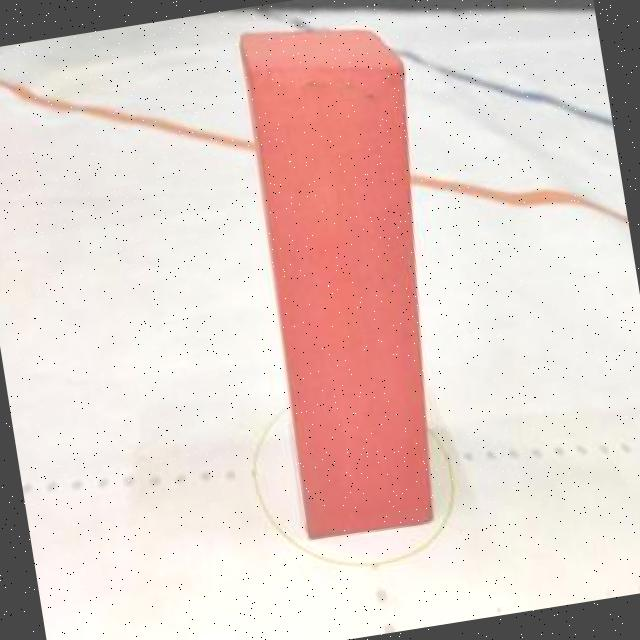redbox: (233, 6, 477, 543)
